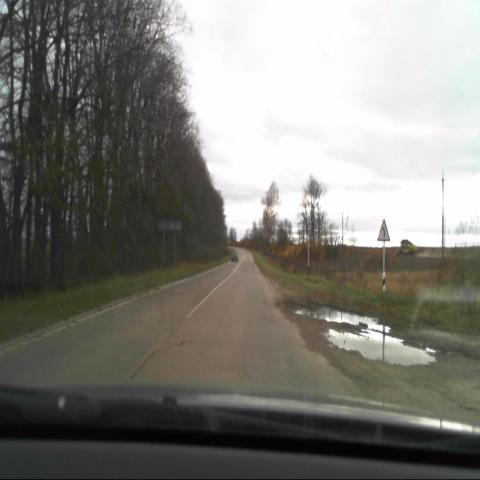1_11_1: (376, 219, 390, 241)
